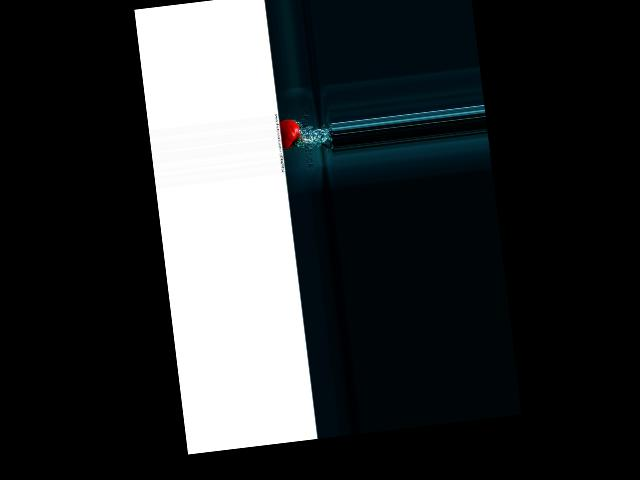tomato: (279, 118, 302, 150)
